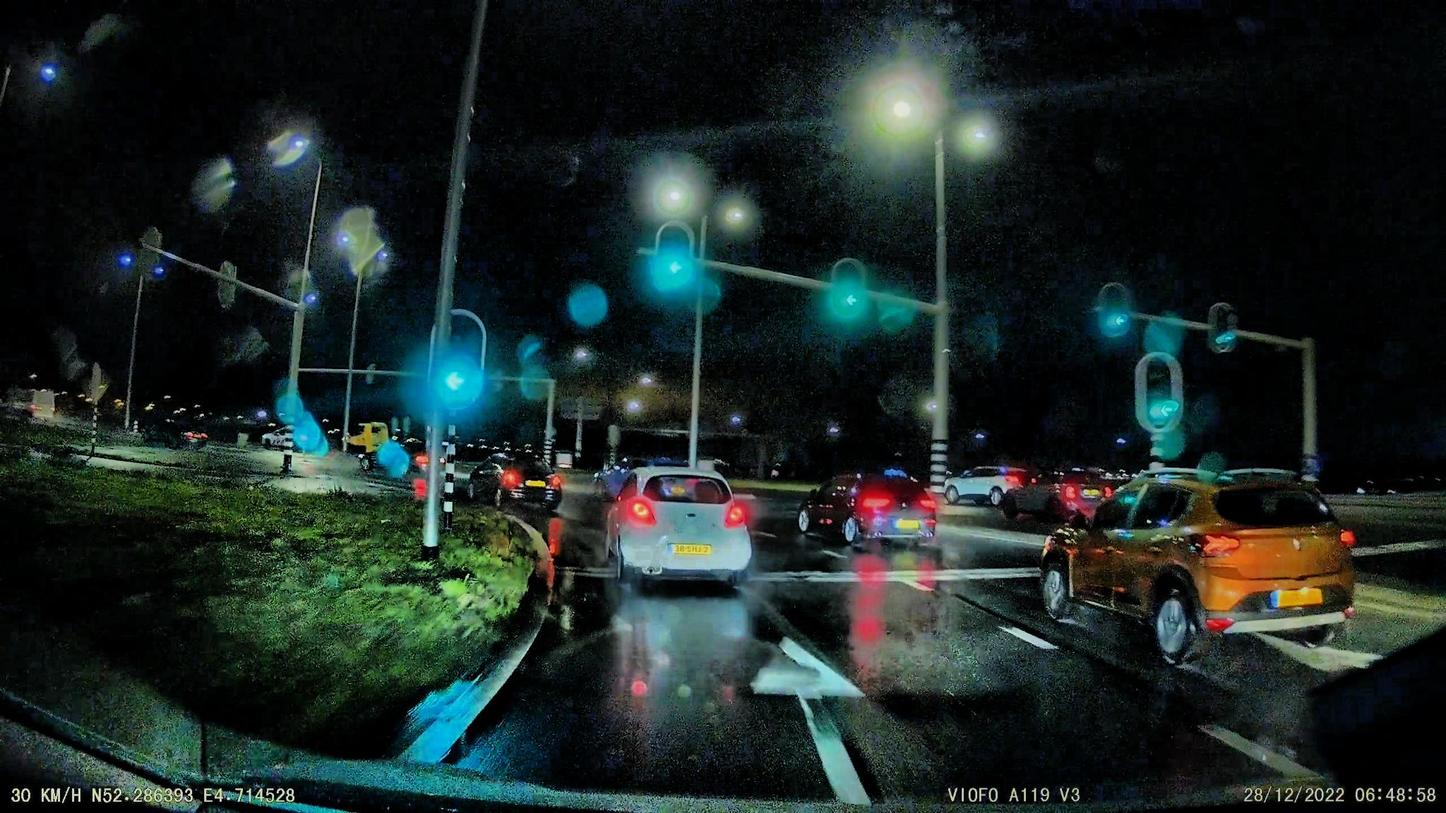Roads: (443, 498, 1338, 813)
